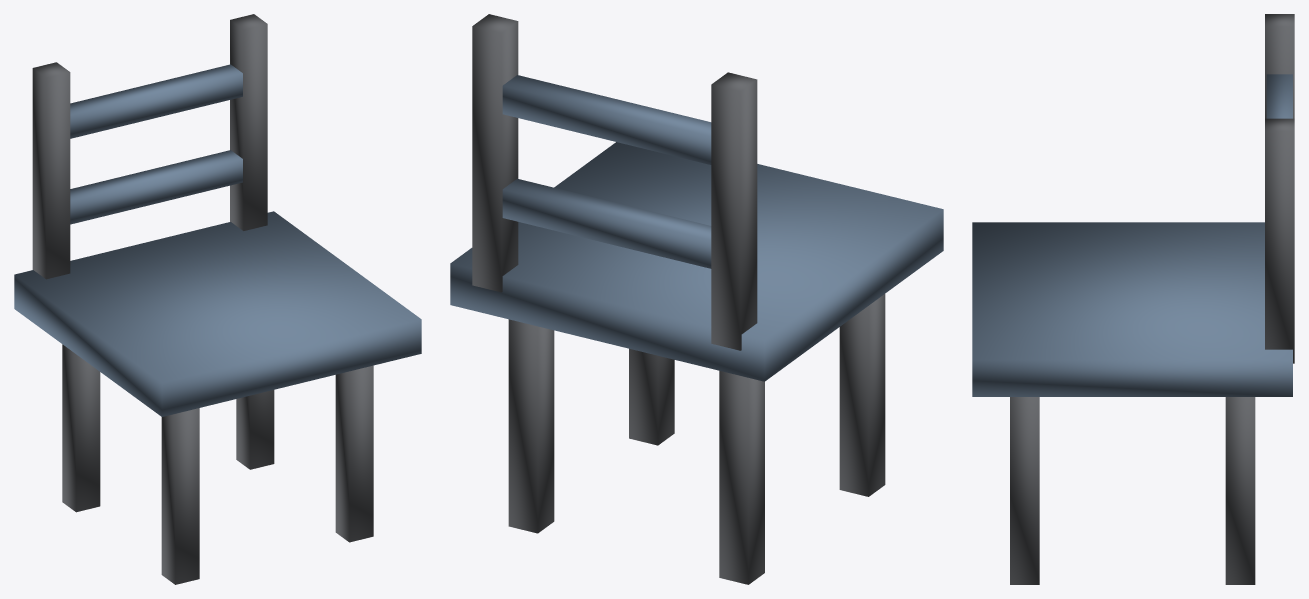
The model's file is armchair__squat.glb.
3 views of the same model, side by side, from view 1: azimuth 30°, elevation 25°; view 2: azimuth 150°, elevation 25°; view 3: azimuth 270°, elevation 25° (orthographic). The views are drawn at different scales.
Parts seen in each view (by area): view 1: world; view 2: world; view 3: world.
Part boxes in pixels (x1,y1,x2,y2): world: [14, 14, 421, 584]; world: [450, 14, 943, 584]; world: [972, 14, 1294, 584].
Size of the model in its own units: 0.5331 by 0.8309 by 0.5282.
